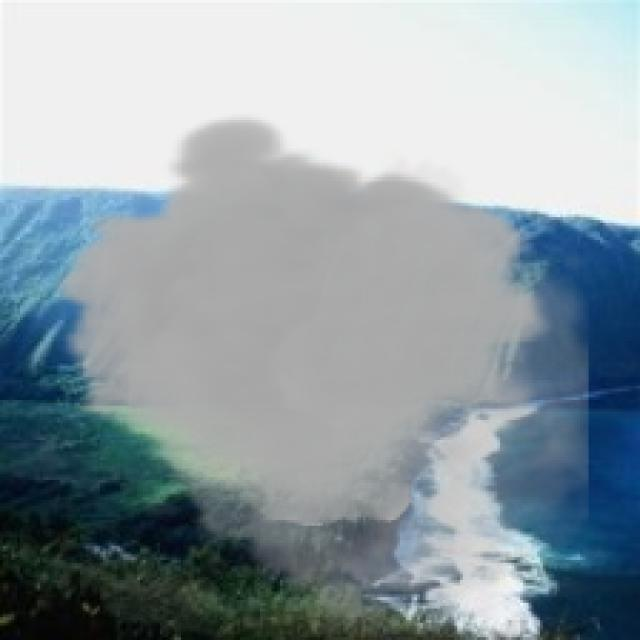Smoke: (51, 112, 592, 638)
